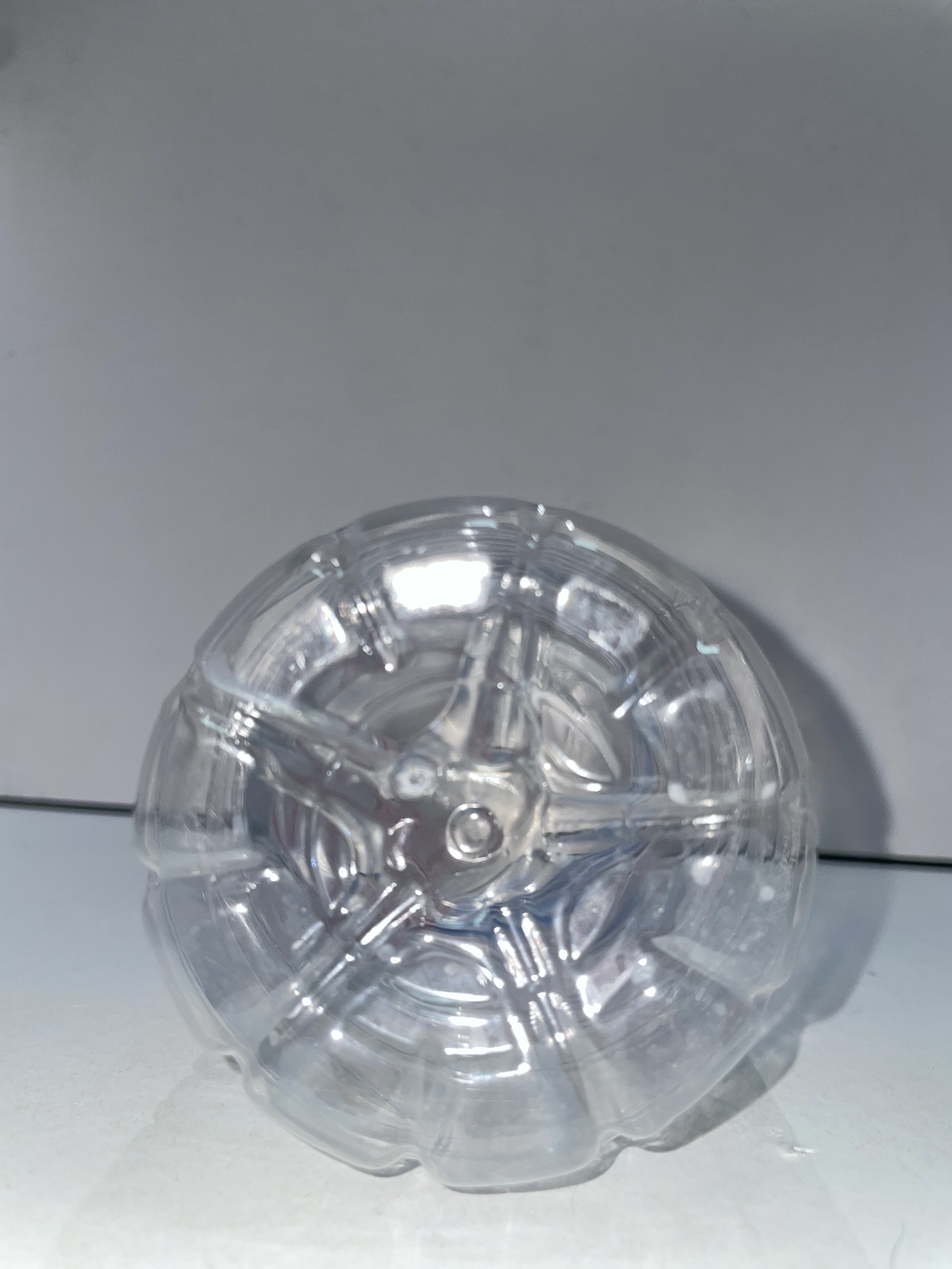Refresh 1000ml: (138, 499, 816, 1190)
